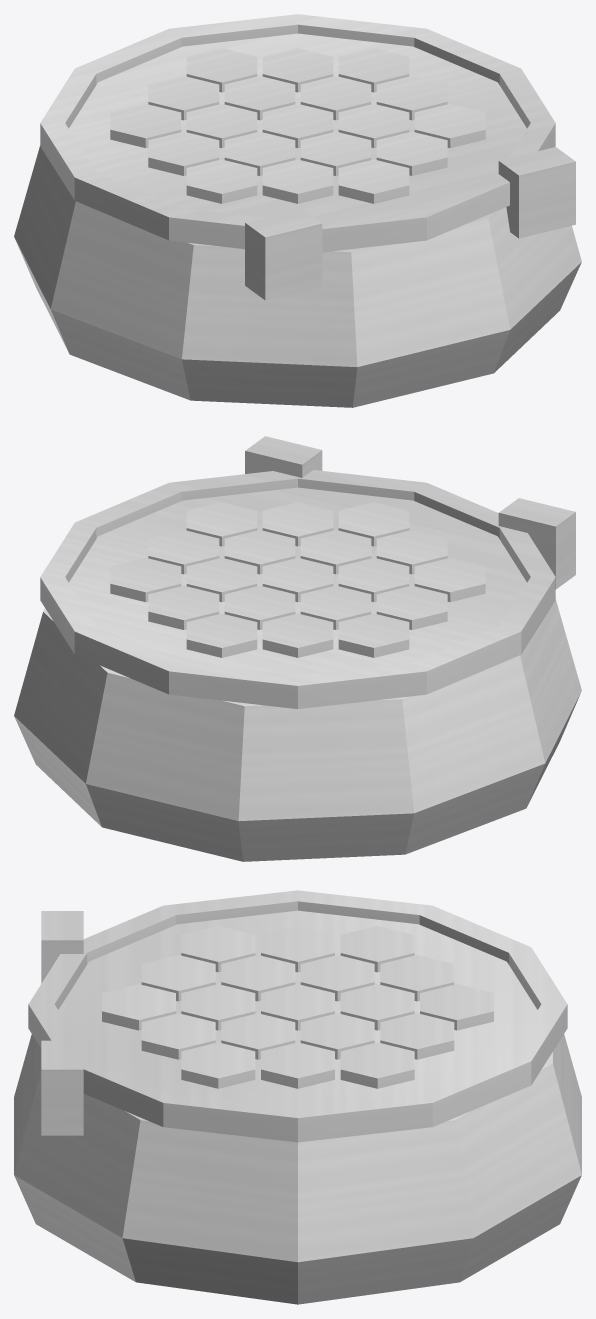
The model's file is proximity.obj.
The picture shows the model from 3 angles, top to bottom: view 1: azimuth 30°, elevation 25°; view 2: azimuth 150°, elevation 25°; view 3: azimuth 270°, elevation 25°; orthographic projection. The views are drawn at different scales.
Visible parts, largest first — view 1: proximity; view 2: proximity; view 3: proximity.
Boxes of the visible parts, box(x1,y1,x2,y2) form: proximity: box(14, 14, 581, 407); proximity: box(14, 436, 581, 861); proximity: box(14, 890, 581, 1304).
Size of the model in its own units: 0.78 by 0.285 by 0.7418.
